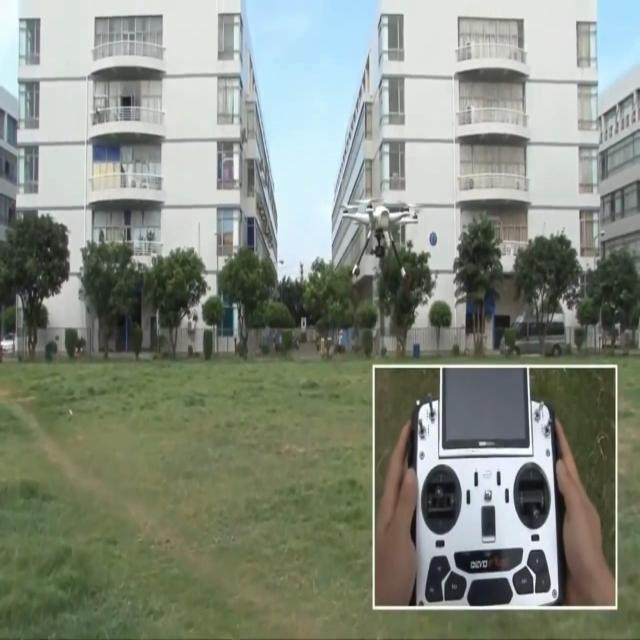drone: (339, 195, 419, 281)
